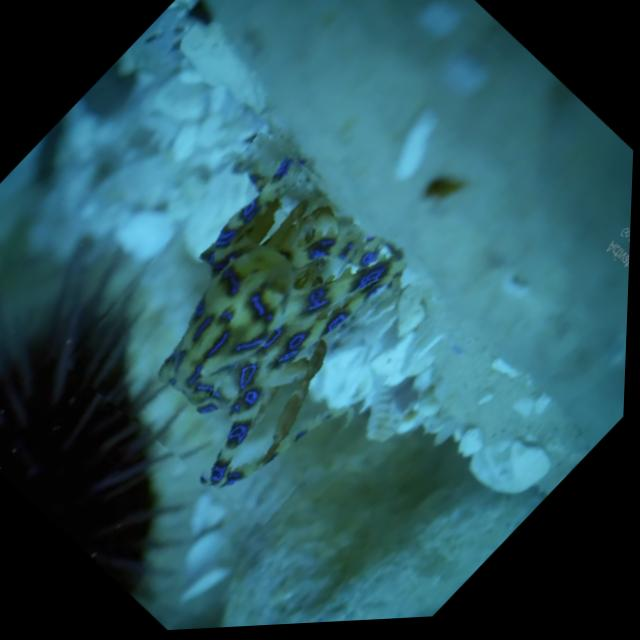blue_ringed_octopus: (54, 119, 476, 546)
